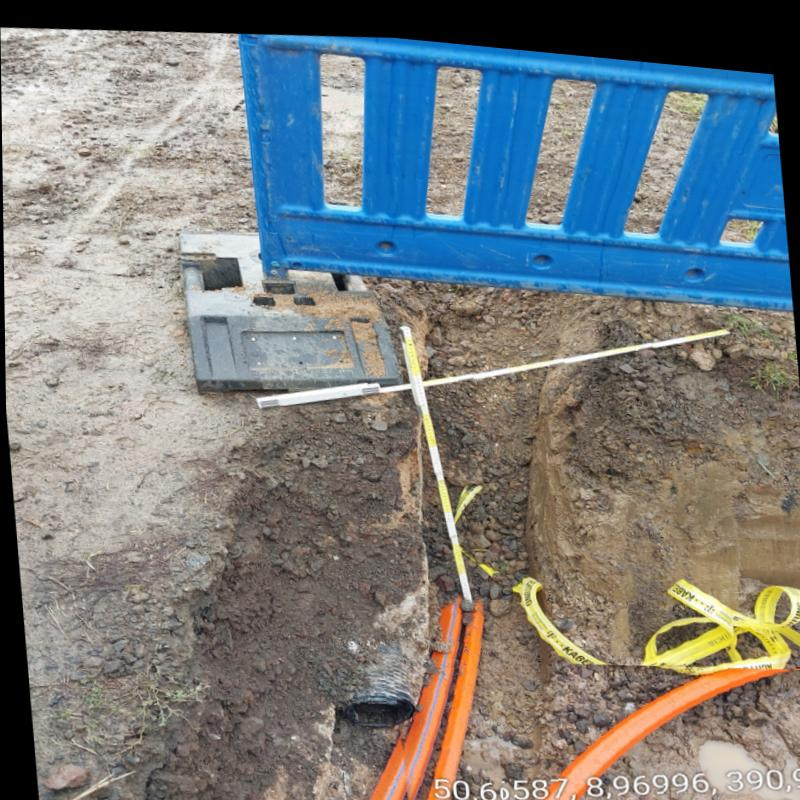Orang-Speednetrohrchen: (530, 653, 800, 800), (355, 594, 466, 800), (417, 592, 485, 800)
